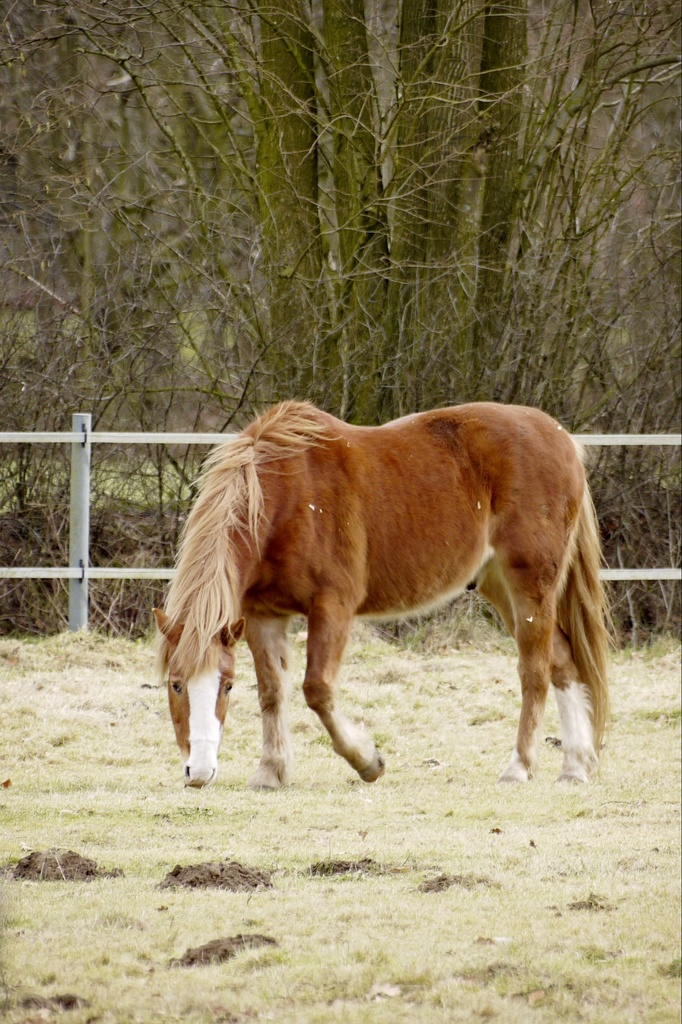horse: (151, 396, 623, 792)
